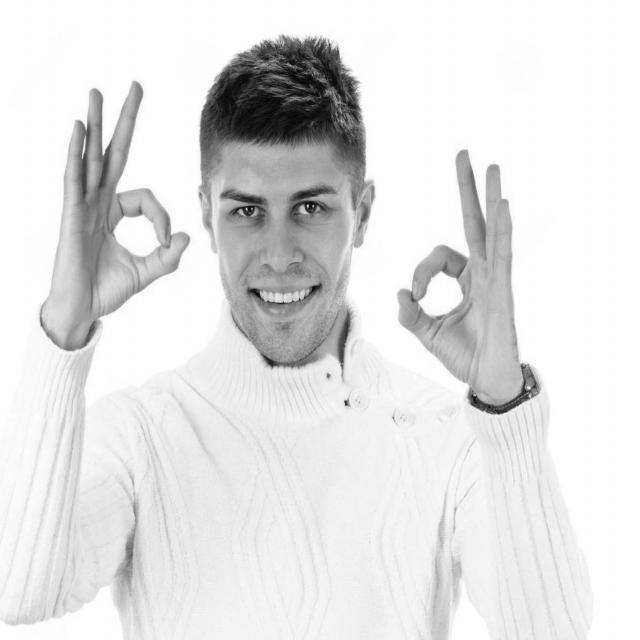perfect: (39, 72, 196, 338), (392, 139, 529, 399)
